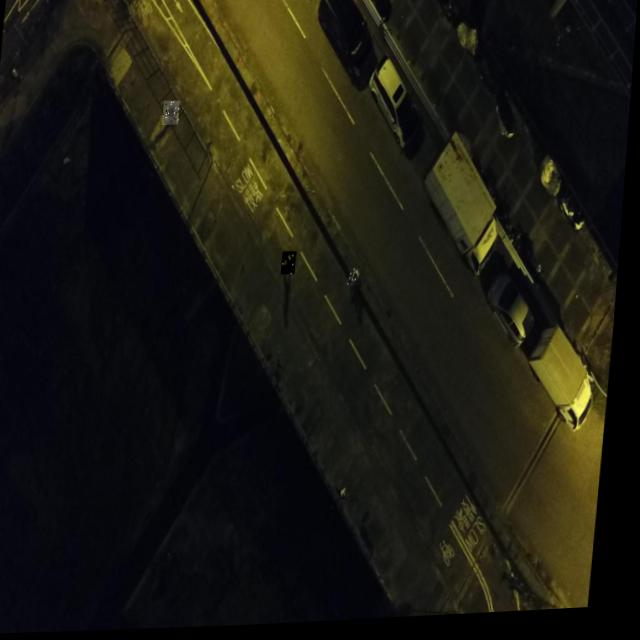Person: (164, 102, 181, 127), (285, 254, 300, 278), (352, 272, 365, 290)
